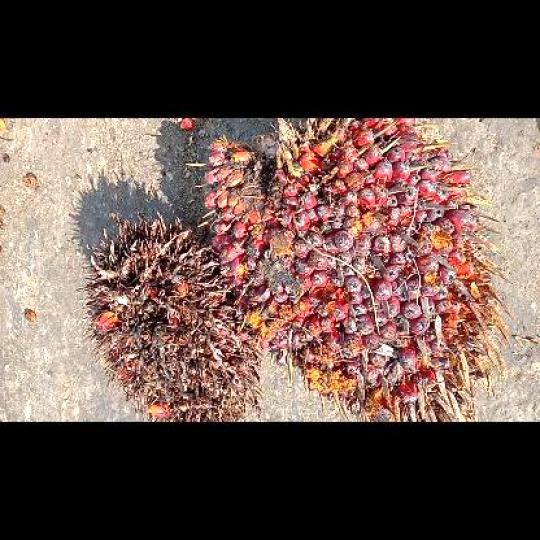masak: (185, 117, 511, 420)
terlalu masak: (77, 211, 263, 420)
